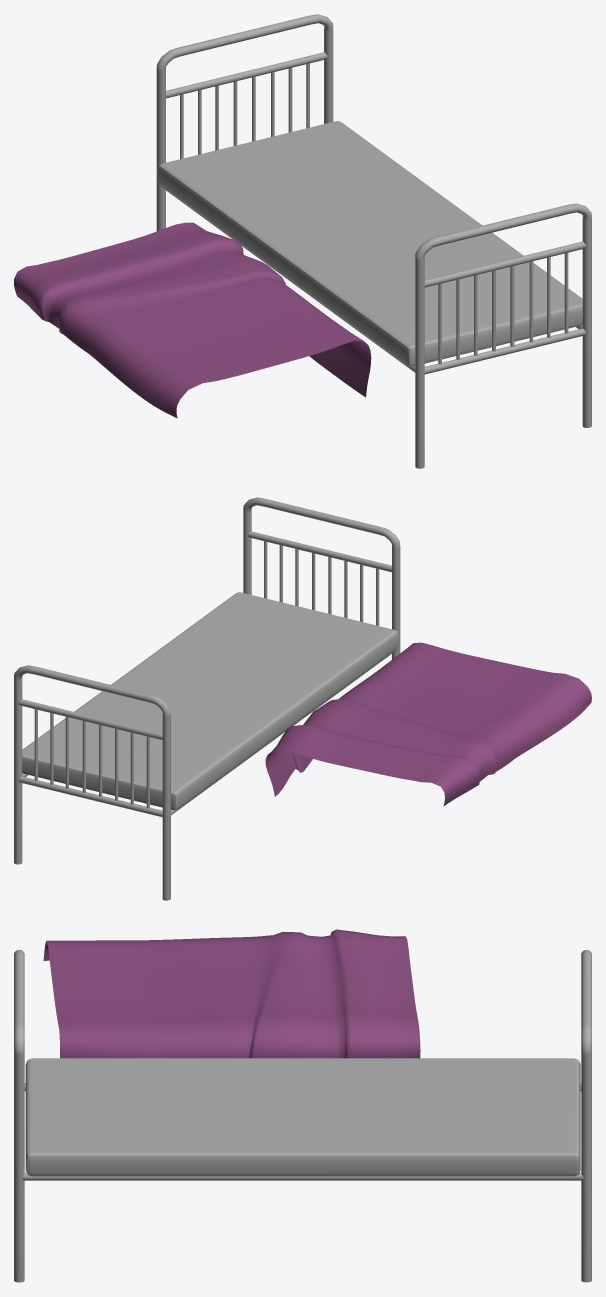
Rendered from mesh_bed.fbx.
3 views of the same model, one above another, from view 1: azimuth 30°, elevation 25°; view 2: azimuth 150°, elevation 25°; view 3: azimuth 270°, elevation 25° (orthographic). The views are drawn at different scales.
Visible parts, largest first — view 1: mattress, polySurface23; view 2: mattress, polySurface23; view 3: mattress, polySurface23.
Part boxes in pixels (x1,y1,x2,y2): mattress: (156, 14, 591, 468); polySurface23: (14, 222, 371, 418); mattress: (14, 497, 400, 900); polySurface23: (265, 642, 591, 806); mattress: (14, 950, 591, 1282); polySurface23: (43, 929, 420, 1058).
Size of the model in its own units: 2.02 by 1.05 by 2.23.
